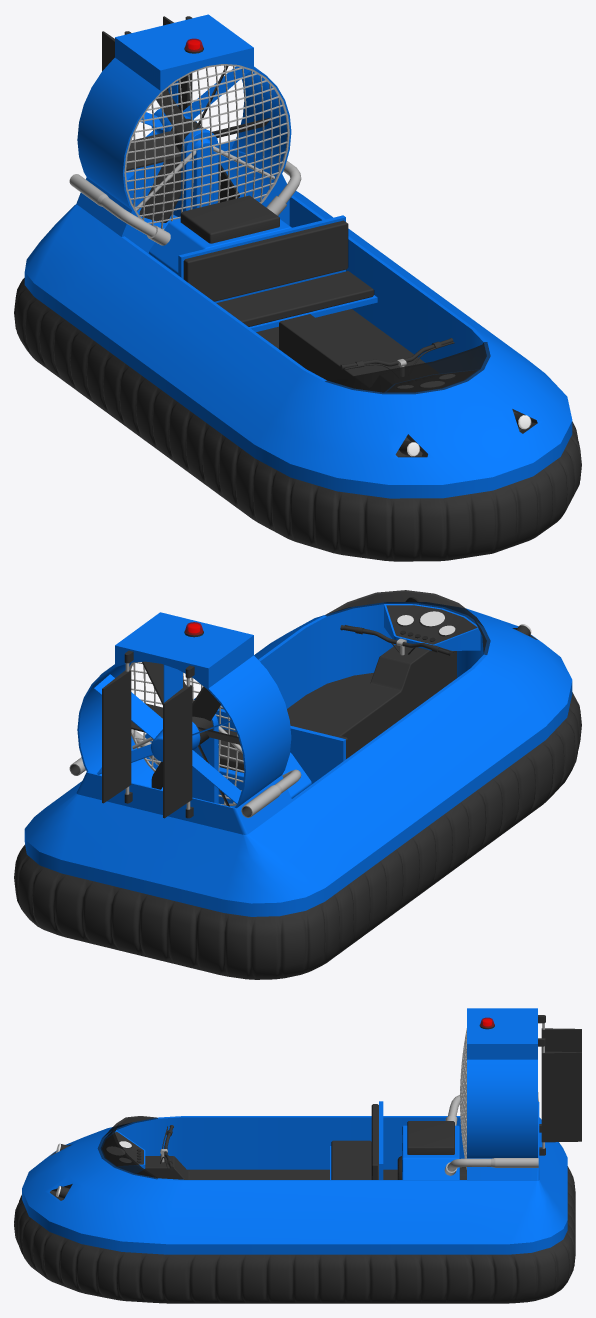
3 renders of one model, top to bottom at view 1: azimuth 30°, elevation 25°; view 2: azimuth 150°, elevation 25°; view 3: azimuth 270°, elevation 25°, orthographic. The views are drawn at different scales.
Parts seen in each view (by area): view 1: V1_Hovercraft_1_Body, V1_Hovercraft_1_Skirt, V1_Hovercraft_1_Engine, V1_Hovercraft_1_Propeller, V1_Hovercraft_1_Exhaust_R, V1_Hovercraft_1_Exhaust_L; view 2: V1_Hovercraft_1_Body, V1_Hovercraft_1_Skirt, V1_Hovercraft_1_Rudder_R, V1_Hovercraft_1_Rudder_L, V1_Hovercraft_1_Propeller, V1_Hovercraft_1_Engine, V1_Hovercraft_1_Exhaust_R, V1_Hovercraft_1_Handlebar; view 3: V1_Hovercraft_1_Body, V1_Hovercraft_1_Skirt, V1_Hovercraft_1_Rudder_L, V1_Hovercraft_1_Engine, V1_Hovercraft_1_Exhaust_L, V1_Hovercraft_1_Rudder_R.
Boxes of the visible parts, x1,y1,x2,y2 form: V1_Hovercraft_1_Body: (24,14,572,498); V1_Hovercraft_1_Skirt: (14,278,581,561); V1_Hovercraft_1_Engine: (148,195,291,274); V1_Hovercraft_1_Propeller: (126,65,269,222); V1_Hovercraft_1_Exhaust_R: (69,174,170,245); V1_Hovercraft_1_Exhaust_L: (266,161,301,215); V1_Hovercraft_1_Body: (24,590,572,916); V1_Hovercraft_1_Skirt: (14,692,581,979); V1_Hovercraft_1_Rudder_R: (163,678,192,818); V1_Hovercraft_1_Rudder_L: (102,663,131,803); V1_Hovercraft_1_Propeller: (131,661,240,806); V1_Hovercraft_1_Engine: (218,729,311,804); V1_Hovercraft_1_Exhaust_R: (241,769,301,817); V1_Hovercraft_1_Handlebar: (340,625,454,656); V1_Hovercraft_1_Body: (22,1008,567,1254); V1_Hovercraft_1_Skirt: (14,1166,575,1303); V1_Hovercraft_1_Rudder_L: (541,1046,581,1148); V1_Hovercraft_1_Engine: (397,1121,466,1179); V1_Hovercraft_1_Exhaust_L: (444,1158,538,1175); V1_Hovercraft_1_Rudder_R: (541,1023,581,1051).
Bounding box in the file's own units: 1.9 × 1.76 × 3.93.
Materials: 5 (2 with a texture image).
